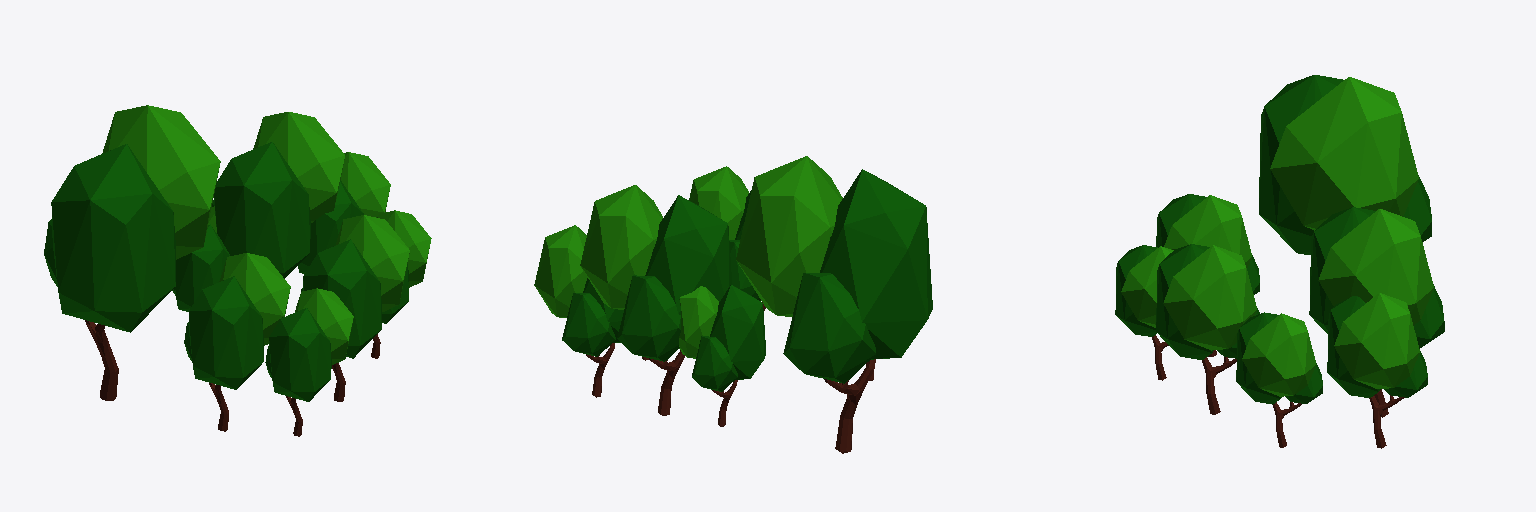
The model's file is Arboles.obj.
The picture shows the model from 3 angles: view 1: azimuth 30°, elevation 25°; view 2: azimuth 150°, elevation 25°; view 3: azimuth 270°, elevation 25°; orthographic projection.
Visible parts, largest first — view 1: group_pasted__Arbol1_Mesh; view 2: group_pasted__Arbol1_Mesh; view 3: group_pasted__Arbol1_Mesh.
Boxes of the visible parts, x1=… form: group_pasted__Arbol1_Mesh: x1=44, y1=105, x2=431, y2=436; group_pasted__Arbol1_Mesh: x1=534, y1=156, x2=932, y2=453; group_pasted__Arbol1_Mesh: x1=1115, y1=75, x2=1444, y2=448.
Bounding box in the file's own units: 11.62 × 8.92 × 9.27.